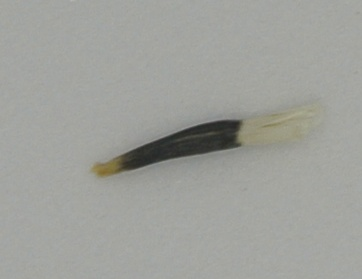เมล็ดดีติดกัน: (85, 100, 320, 179)
